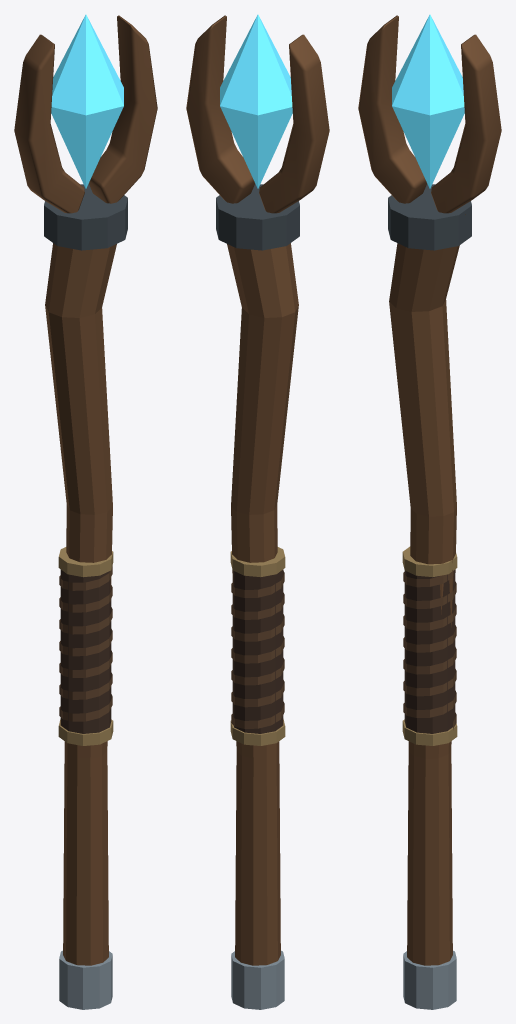
Rendered from Crownless_Apprentice_Staff.glb.
The picture shows the model from 3 angles, left to right: view 1: azimuth 30°, elevation 25°; view 2: azimuth 150°, elevation 25°; view 3: azimuth 330°, elevation 25°; orthographic projection.
Visible parts, largest first — view 1: Staff | crooked ash shaft, Staff | blue focus crystal, Staff | focus fork 1, Staff | focus fork -1, Staff | leather handhold, Staff | focus collar, Staff | grip binding, Staff | iron foot, Staff | upper grip ring, Staff | lower grip ring; view 2: Staff | crooked ash shaft, Staff | blue focus crystal, Staff | focus fork 1, Staff | focus fork -1, Staff | leather handhold, Staff | focus collar, Staff | grip binding, Staff | iron foot, Staff | upper grip ring, Staff | lower grip ring; view 3: Staff | crooked ash shaft, Staff | blue focus crystal, Staff | focus fork -1, Staff | focus fork 1, Staff | leather handhold, Staff | focus collar, Staff | grip binding, Staff | iron foot, Staff | upper grip ring, Staff | lower grip ring.
Part boxes in pixels (x1,y1,x2,y2): Staff | crooked ash shaft: (45, 243, 116, 965); Staff | blue focus crystal: (51, 14, 123, 188); Staff | focus fork 1: (88, 15, 157, 203); Staff | focus fork -1: (14, 34, 84, 213); Staff | leather handhold: (60, 569, 111, 733); Staff | focus collar: (44, 184, 127, 250); Staff | grip binding: (59, 566, 112, 721); Staff | iron foot: (59, 950, 112, 1009); Staff | upper grip ring: (58, 547, 113, 577); Staff | lower grip ring: (58, 719, 113, 745); Staff | crooked ash shaft: (227, 243, 298, 965); Staff | blue focus crystal: (220, 14, 292, 188); Staff | focus fork 1: (186, 15, 255, 203); Staff | focus fork -1: (259, 34, 329, 213); Staff | leather handhold: (232, 569, 283, 733); Staff | focus collar: (216, 184, 299, 250); Staff | grip binding: (231, 570, 284, 728); Staff | iron foot: (231, 950, 284, 1009); Staff | upper grip ring: (230, 547, 285, 577); Staff | lower grip ring: (230, 719, 285, 745); Staff | crooked ash shaft: (389, 214, 465, 965); Staff | blue focus crystal: (392, 14, 464, 188); Staff | focus fork -1: (358, 15, 427, 203); Staff | focus fork 1: (431, 34, 501, 213); Staff | leather handhold: (404, 569, 455, 733); Staff | focus collar: (388, 184, 471, 250); Staff | grip binding: (403, 570, 456, 729); Staff | iron foot: (403, 950, 456, 1009); Staff | upper grip ring: (402, 546, 457, 577); Staff | lower grip ring: (402, 719, 457, 745).
Size of the model in its own units: 0.84 by 6.06 by 0.48.
